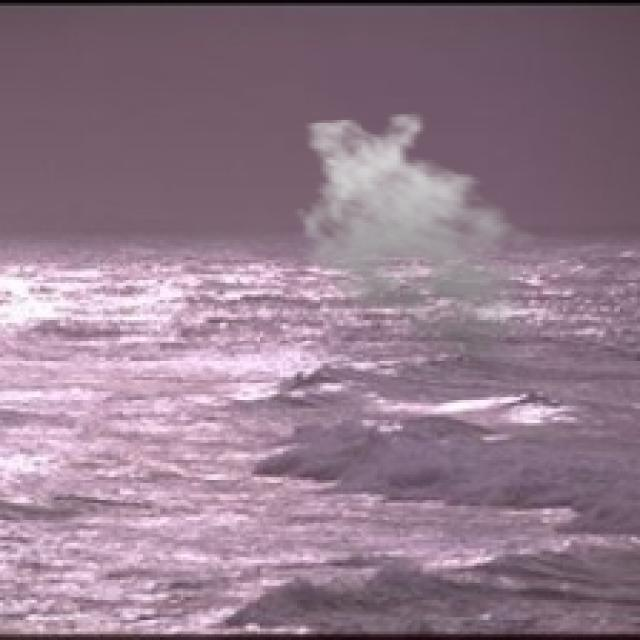smoke: (292, 111, 552, 360)
